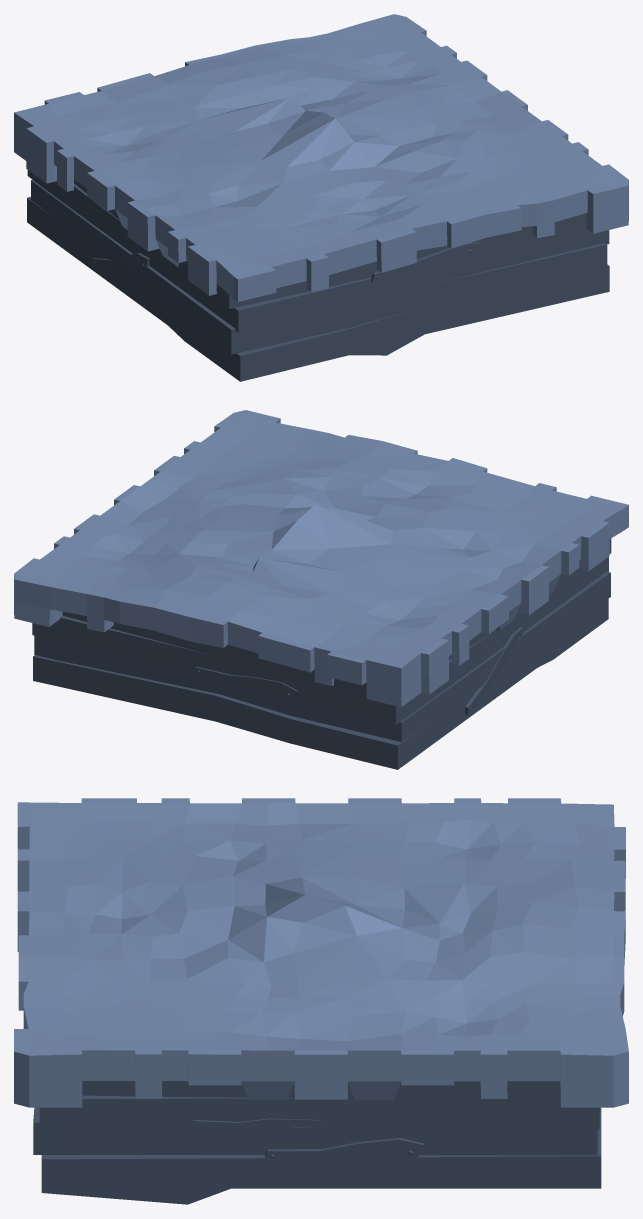
Rendered from ocean_tile.glb.
3 renders of one model, top to bottom at view 1: azimuth 30°, elevation 25°; view 2: azimuth 150°, elevation 25°; view 3: azimuth 270°, elevation 25°, orthographic. The views are drawn at different scales.
Parts seen in each view (by area): view 1: ocean_tile_0; view 2: ocean_tile_0; view 3: ocean_tile_0.
Part boxes in pixels (box(x1,y1,x2,y2)): ocean_tile_0: box(14, 14, 628, 381); ocean_tile_0: box(14, 410, 628, 769); ocean_tile_0: box(14, 798, 628, 1204).
Size of the model in its own units: 5.11 by 1.97 by 5.18.
